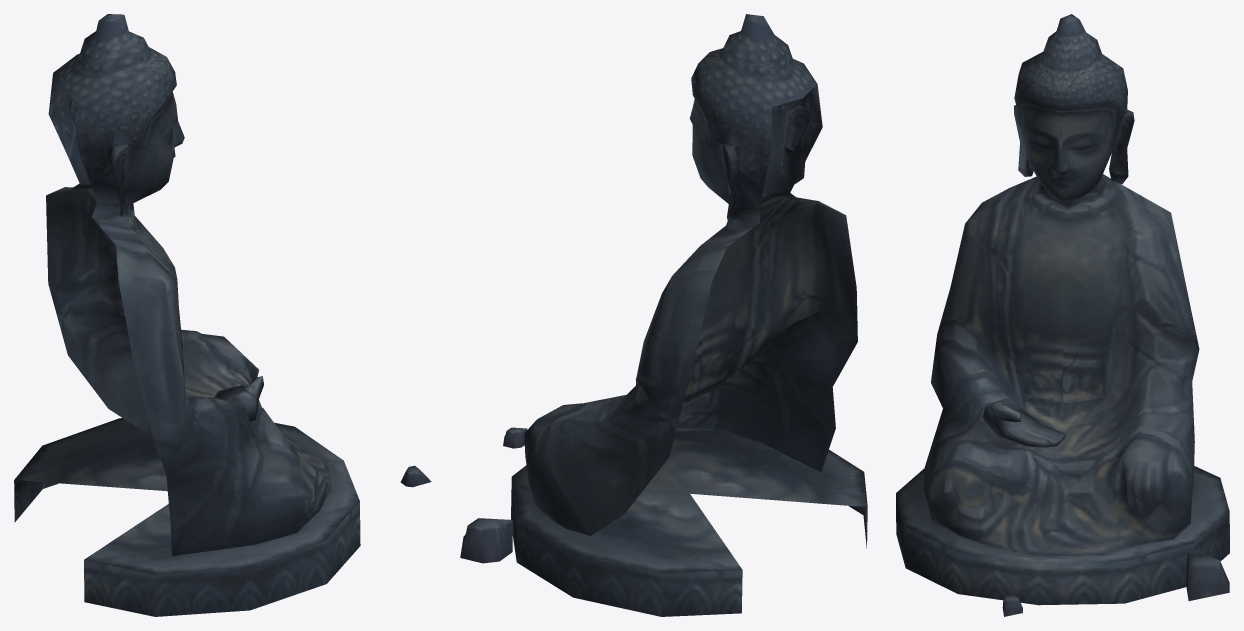
Rendered from Area_05_4.fbx.
3 views of the same model, side by side, from view 1: azimuth 30°, elevation 25°; view 2: azimuth 150°, elevation 25°; view 3: azimuth 270°, elevation 25° (orthographic). The views are drawn at different scales.
Visible parts, largest first — view 1: Area_05_4; view 2: Area_05_4; view 3: Area_05_4.
Boxes of the visible parts, left/top/right/bottom form: Area_05_4: left=14, top=14, right=431, bottom=616; Area_05_4: left=460, top=14, right=867, bottom=616; Area_05_4: left=896, top=14, right=1229, bottom=616.
Size of the model in its own units: 1097 by 1605 by 971.
